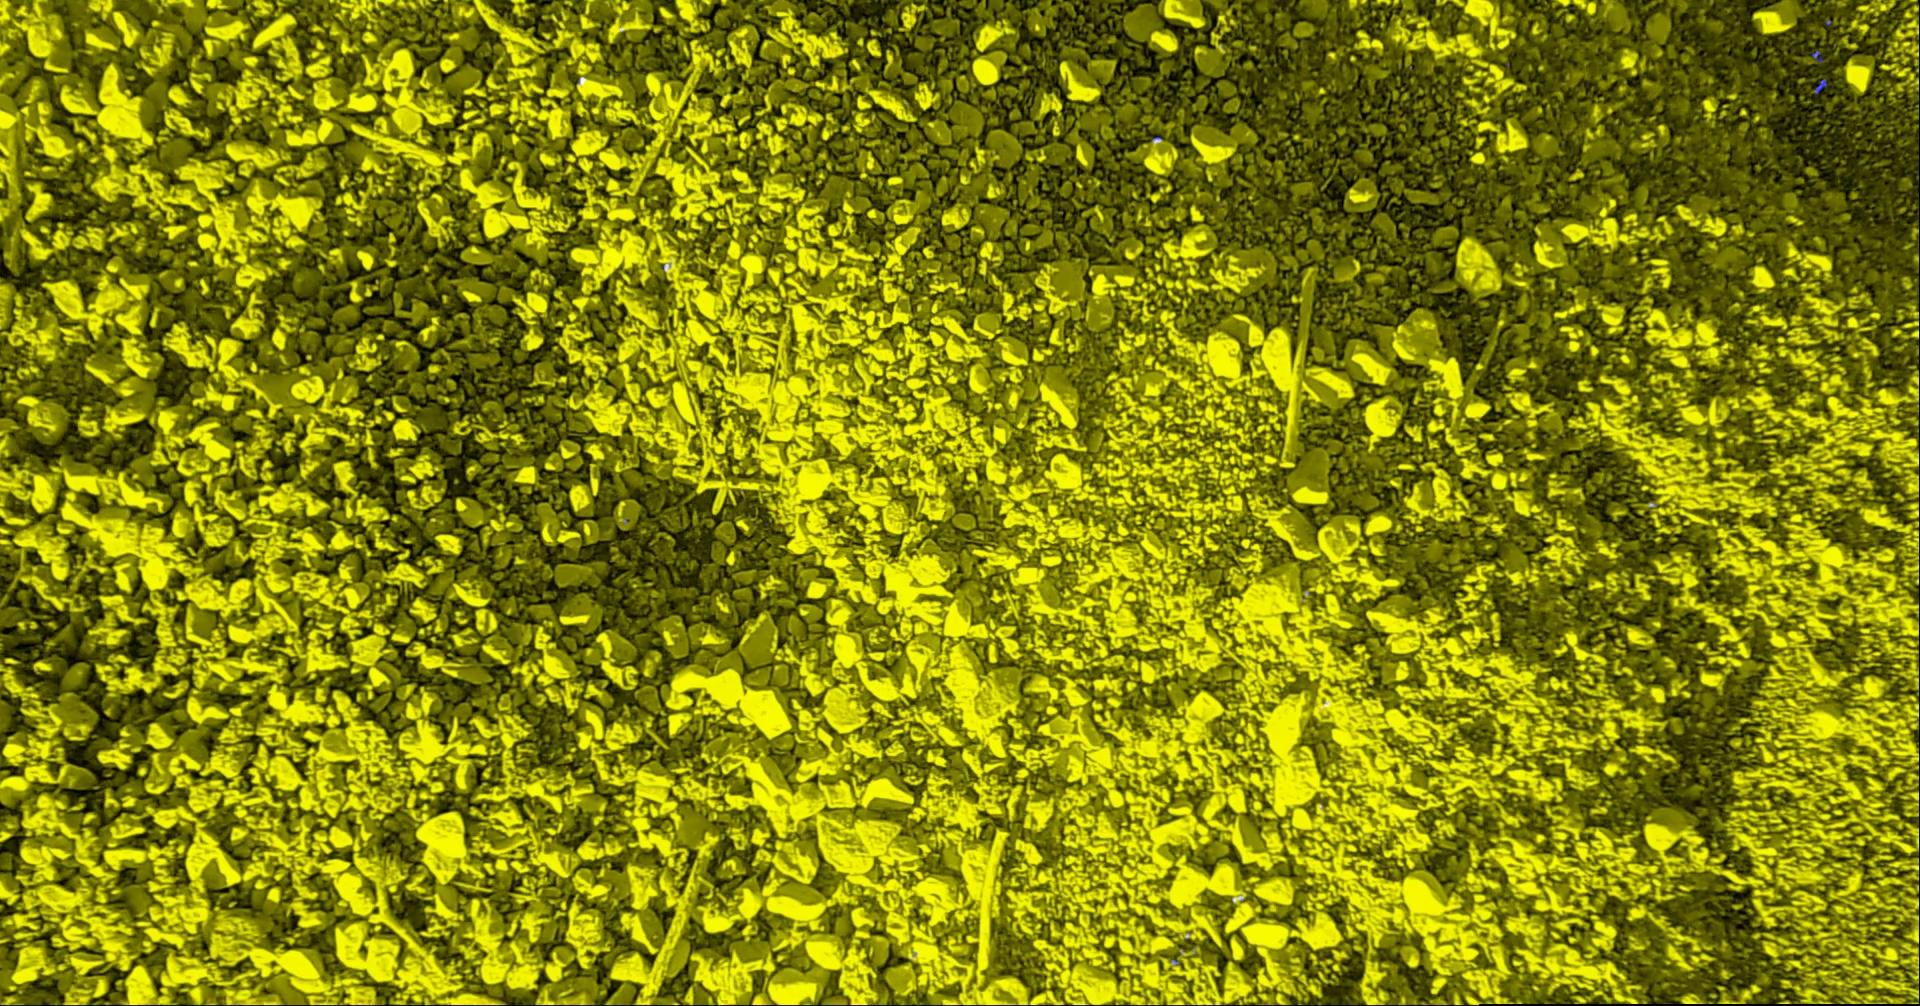ant: (1813, 77, 1827, 94)
